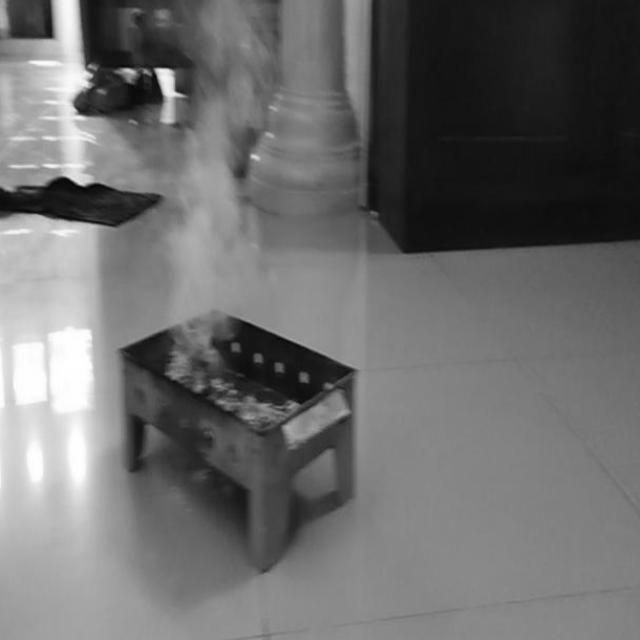fire: (168, 132, 249, 326), (191, 0, 274, 131)
